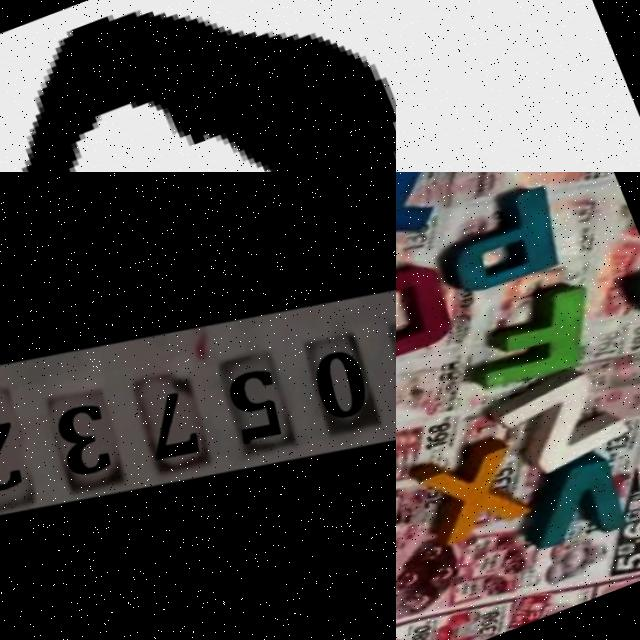0: (284, 325, 392, 447)
2: (0, 392, 47, 516)
3: (30, 381, 135, 501)
5: (201, 348, 306, 465)
6: (0, 0, 396, 172), (374, 313, 396, 425)
7: (118, 366, 224, 486)
F: (450, 284, 601, 401)
O: (396, 253, 458, 375)
P: (425, 188, 571, 301)
T: (396, 172, 457, 263)
V: (502, 459, 617, 559)
X: (396, 0, 604, 172), (405, 433, 525, 547)
Z: (481, 361, 627, 484)
